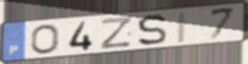4: (67, 20, 95, 52)
7: (209, 5, 236, 42)
I: (175, 10, 189, 45)
O: (29, 24, 61, 55)
S: (136, 13, 168, 48)
Z: (99, 16, 134, 51)
